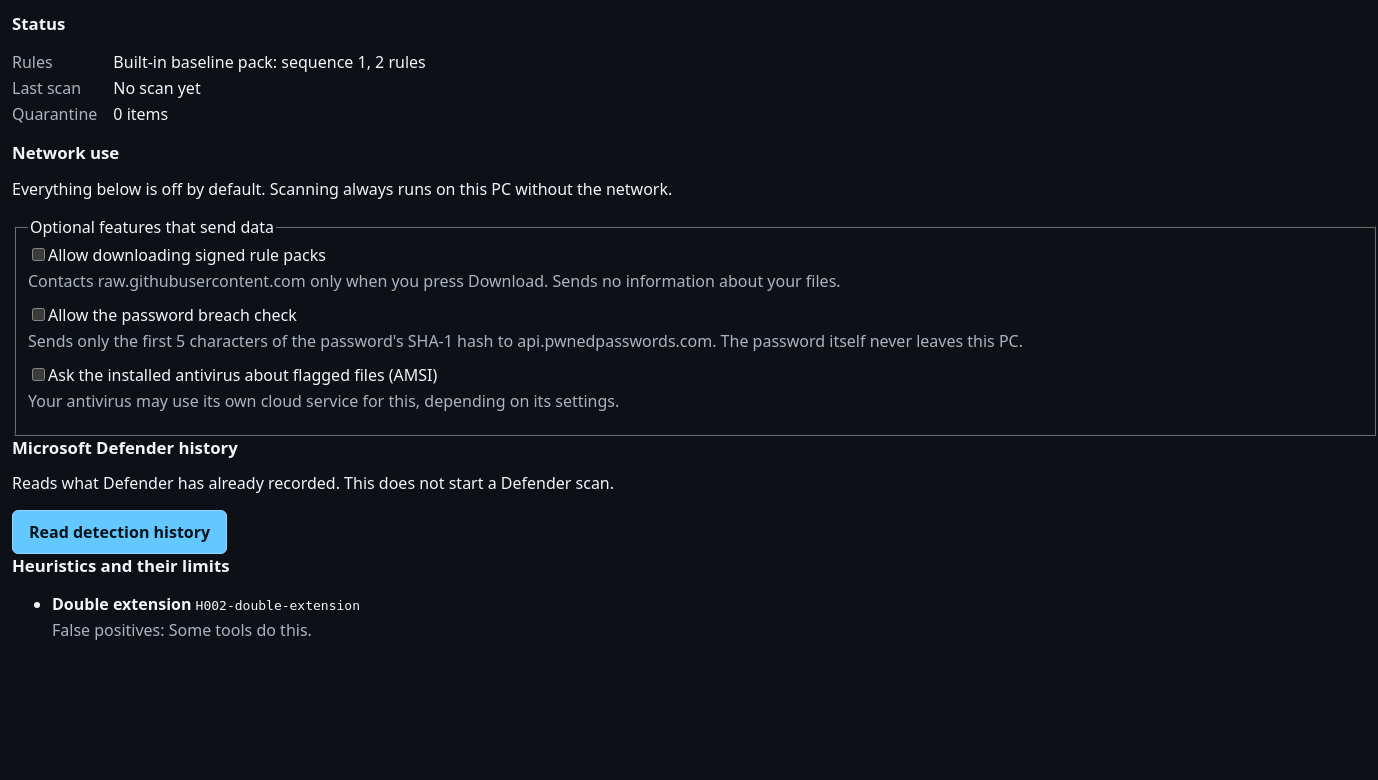
Scenario: says when Defender history was cut off
Click the button "Read detection history": (120, 532) x1=12 y1=510 x2=227 y2=554
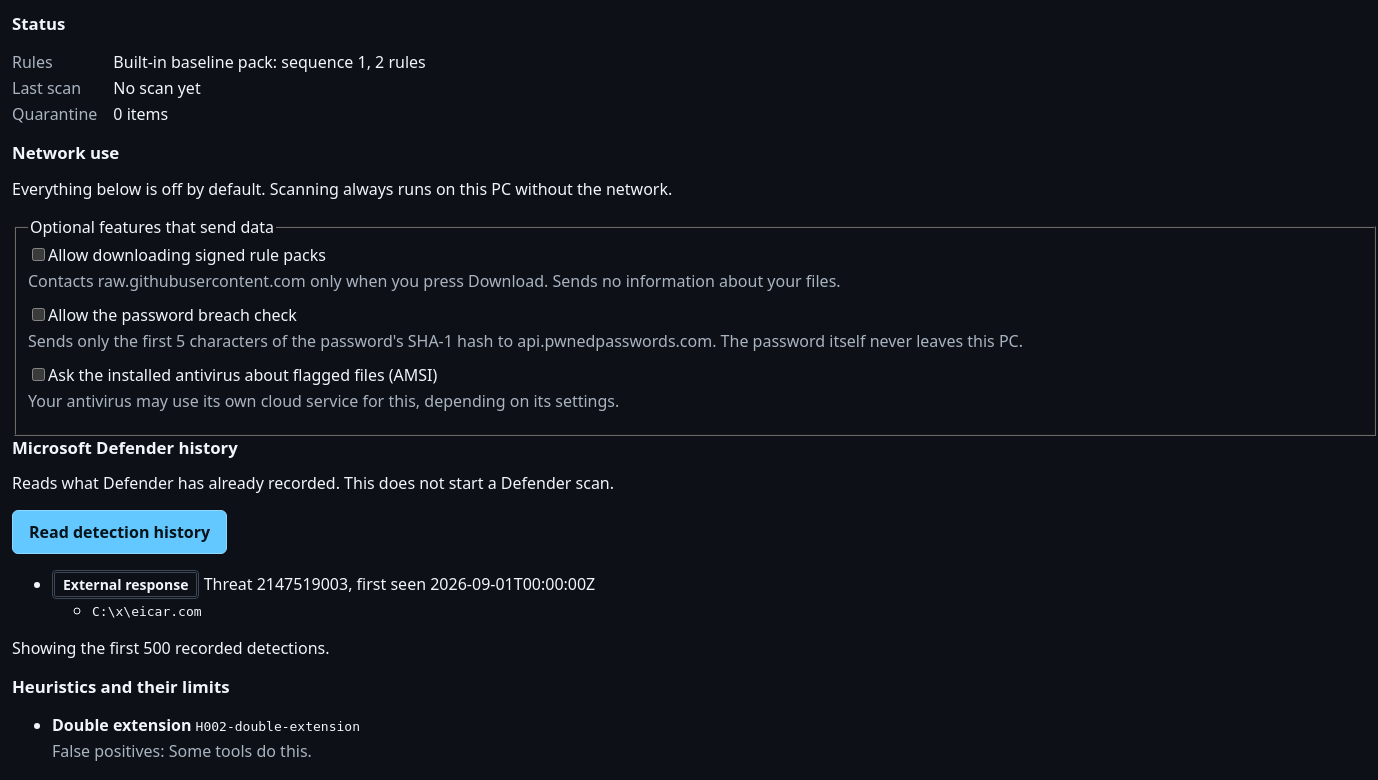
Expected: the text "Showing the first 500 recorded detections." is shown, x1=12 y1=638 x2=330 y2=660
